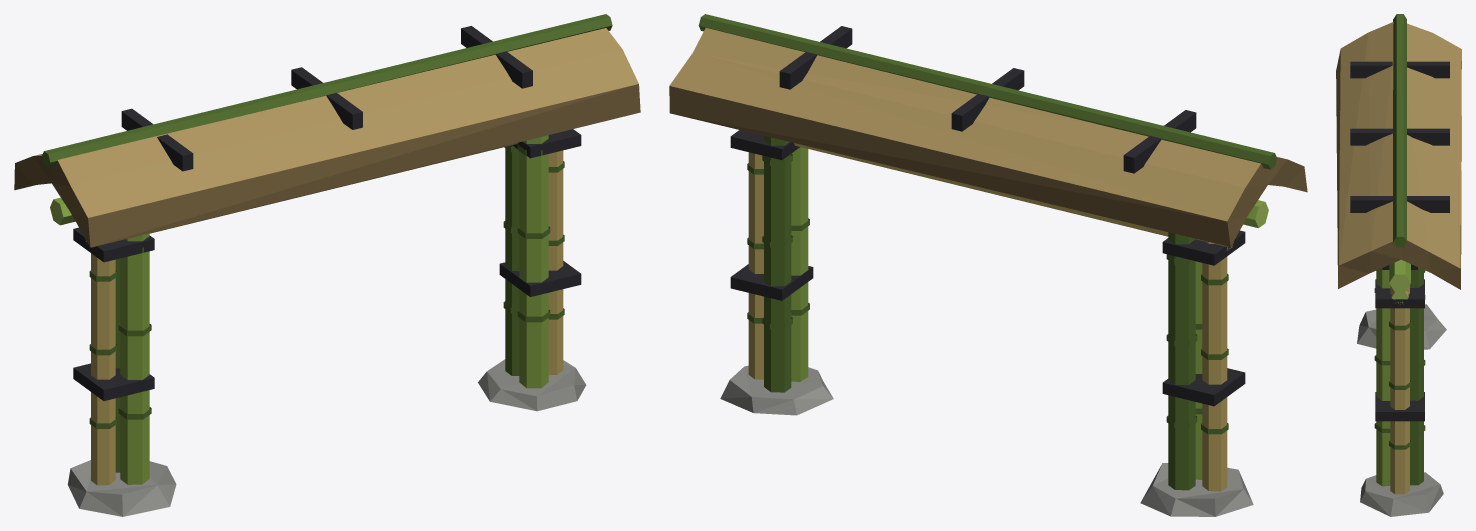
Rendered from arch_bamboo_gate.fbx.
The picture shows the model from 3 angles, left to right: view 1: azimuth 30°, elevation 25°; view 2: azimuth 150°, elevation 25°; view 3: azimuth 270°, elevation 25°; orthographic projection. The views are drawn at different scales.
Visible parts, largest first — view 1: arch_bamboo_gate; view 2: arch_bamboo_gate; view 3: arch_bamboo_gate.
Boxes of the visible parts, <box> form: arch_bamboo_gate: <box>14,14,640,516</box>; arch_bamboo_gate: <box>669,14,1307,516</box>; arch_bamboo_gate: <box>1336,14,1461,516</box>.
Size of the model in its own units: 5.3 by 3.23 by 1.26.
